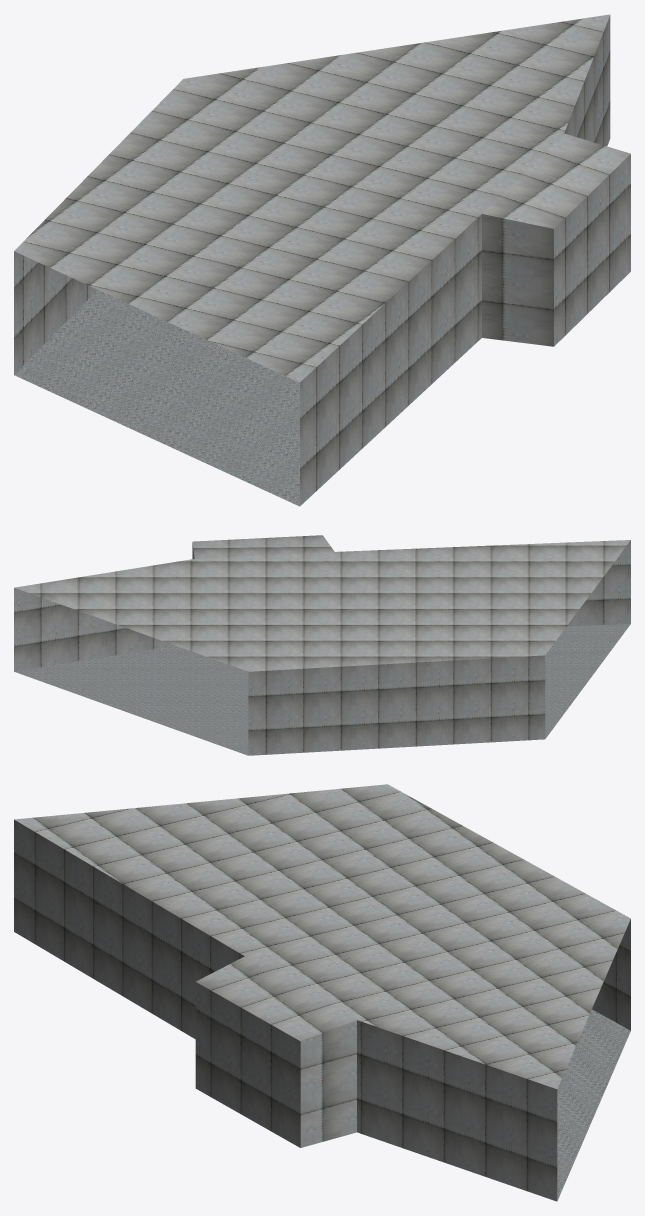
File: south2.FBX
The picture shows the model from 3 angles, top to bottom: view 1: azimuth 30°, elevation 25°; view 2: azimuth 150°, elevation 25°; view 3: azimuth 270°, elevation 25°; orthographic projection. The views are drawn at different scales.
Visible parts, largest first — view 1: South2; view 2: South2; view 3: South2.
Boxes of the visible parts, x1,y1,x2,y2 form: South2: (14, 14, 630, 506); South2: (14, 535, 630, 755); South2: (14, 784, 630, 1201).
Size of the model in its own units: 432 by 74.12 by 369.
2 materials, 2 textured.
